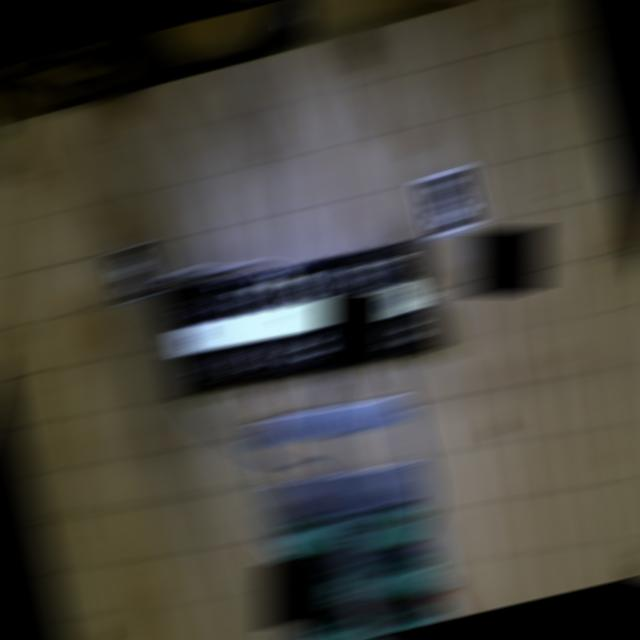Phillips_Block: (150, 239, 445, 399)
Terminal_2: (365, 555, 435, 601), (275, 515, 343, 558), (286, 566, 354, 608), (375, 605, 442, 632), (297, 619, 361, 640)
